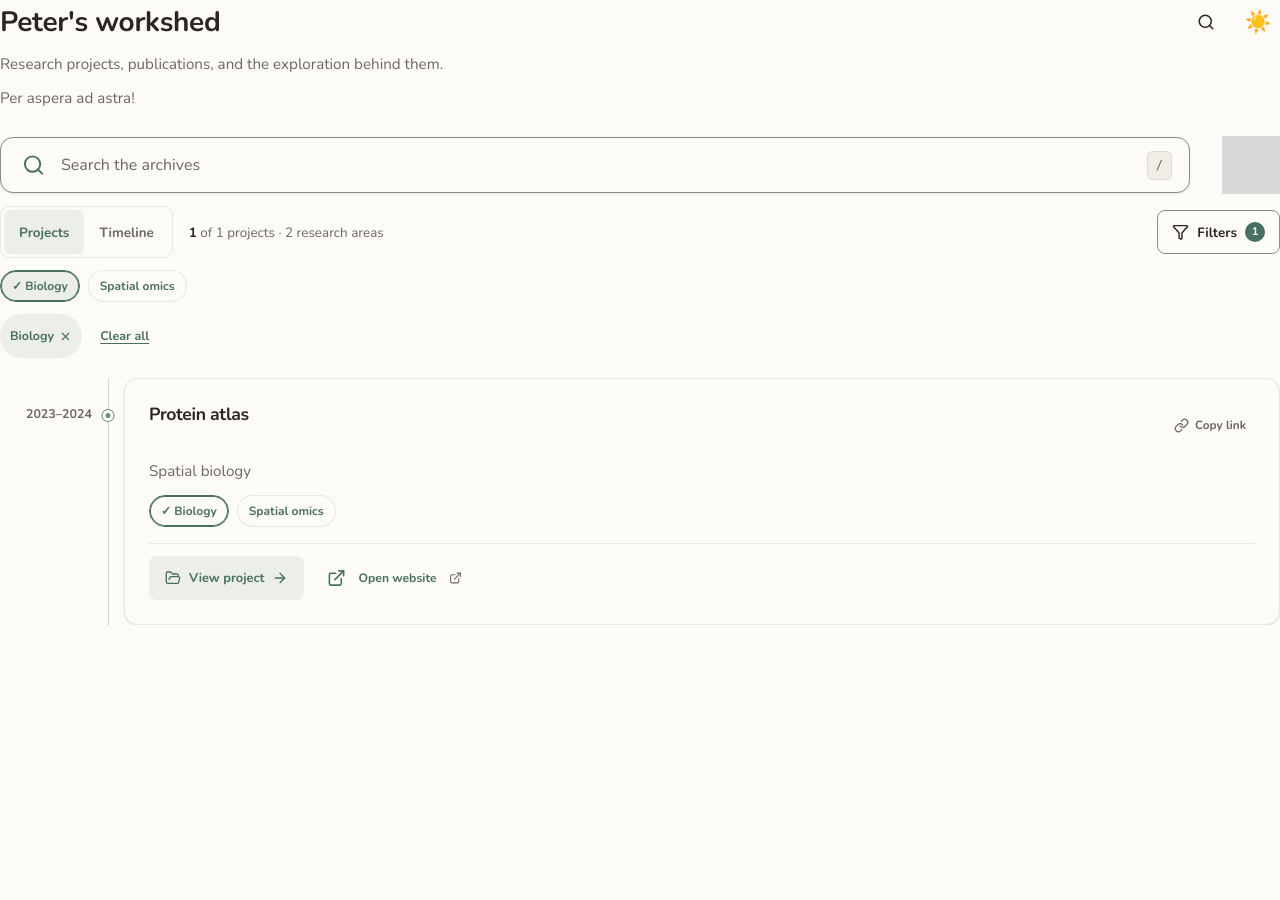
it: archive integration regressions › discards cancelled sorting and preserves committed sorting when clearing filters
Click the button "Filters 1" at (1219,232), box [1157,210,1279,254]
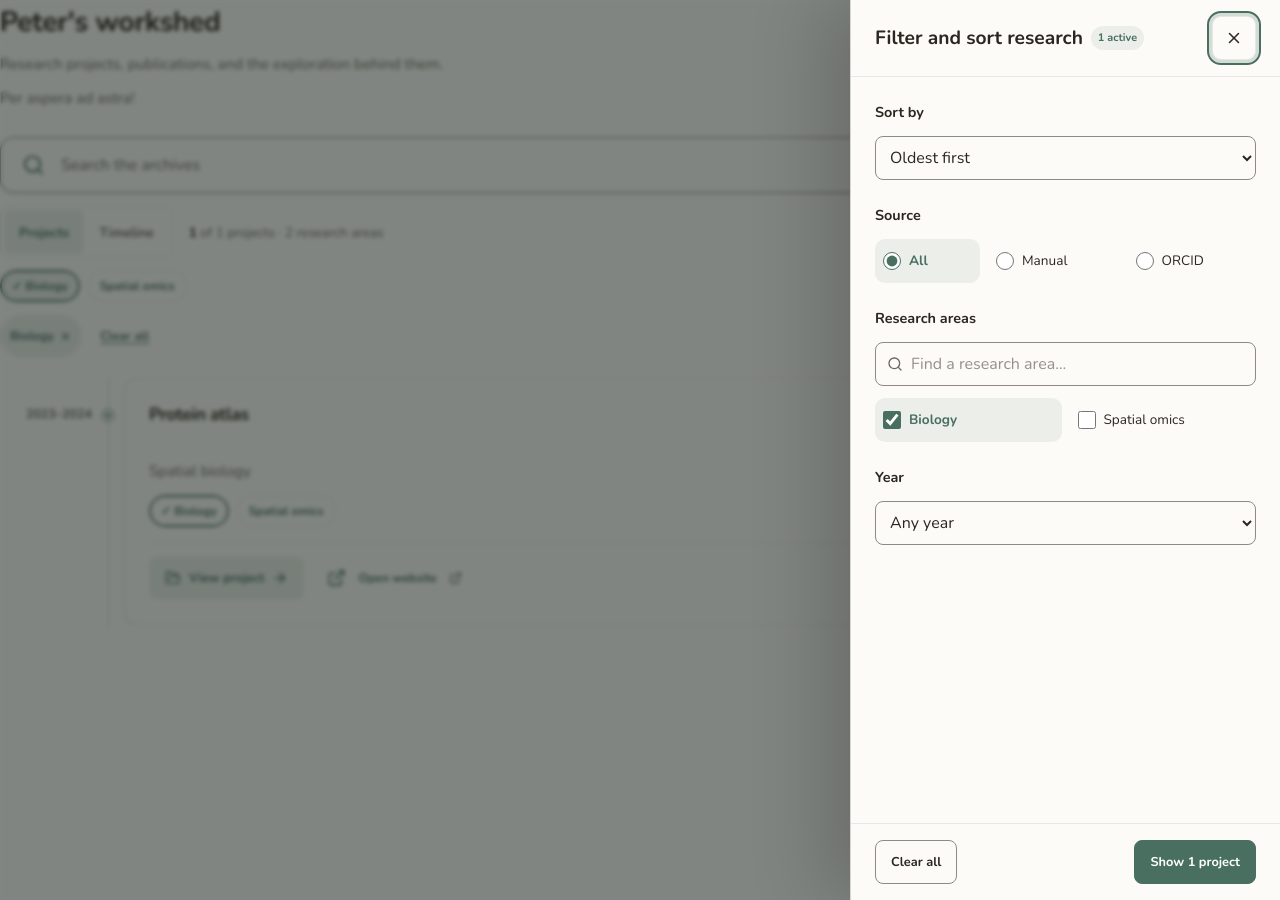
Select "Title (Z–A)" in the dropdown labelled "Sort by" at (1066,158), box [875,136,1256,180]
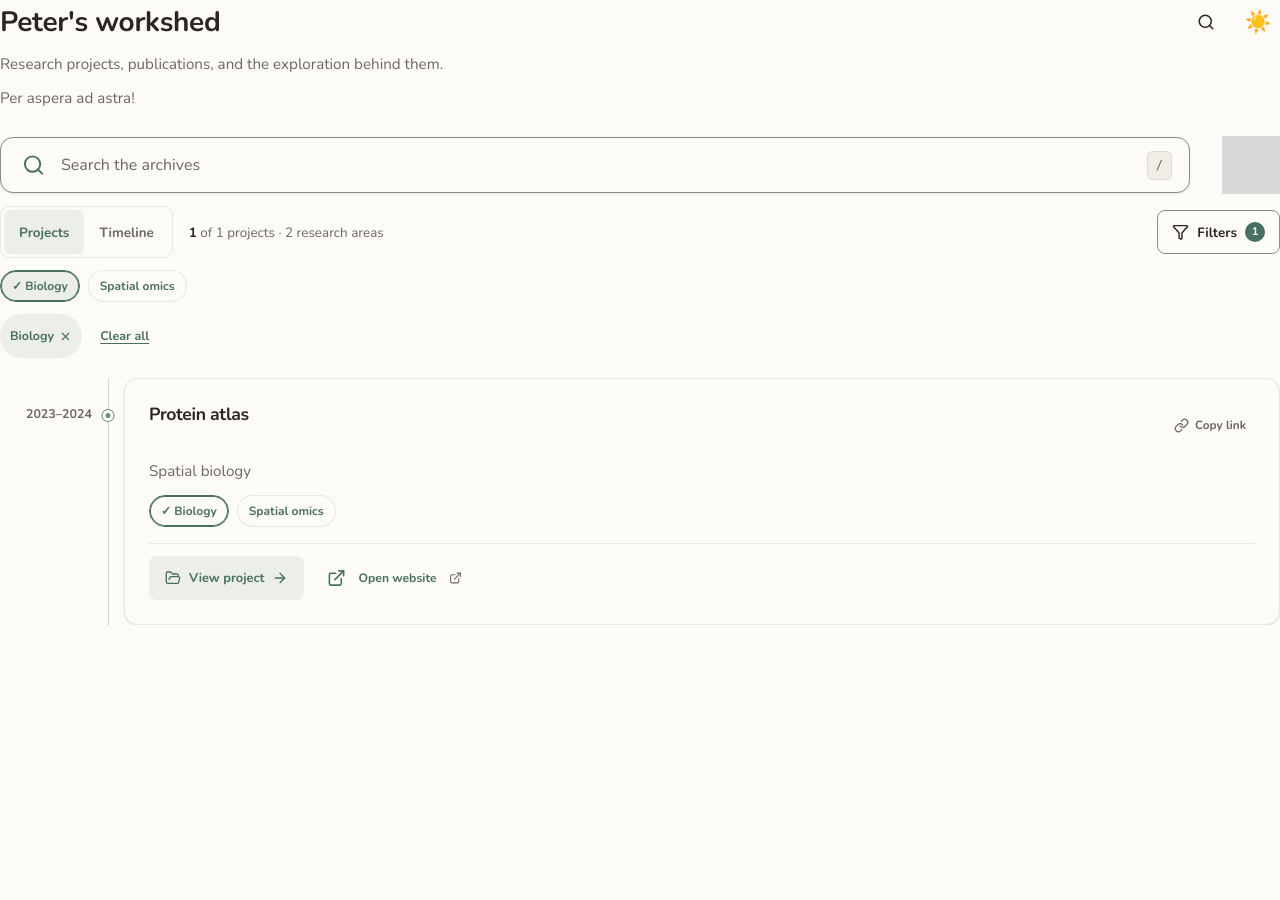
Click the button "Filters 1" at (1219,232), box [1157,210,1279,254]
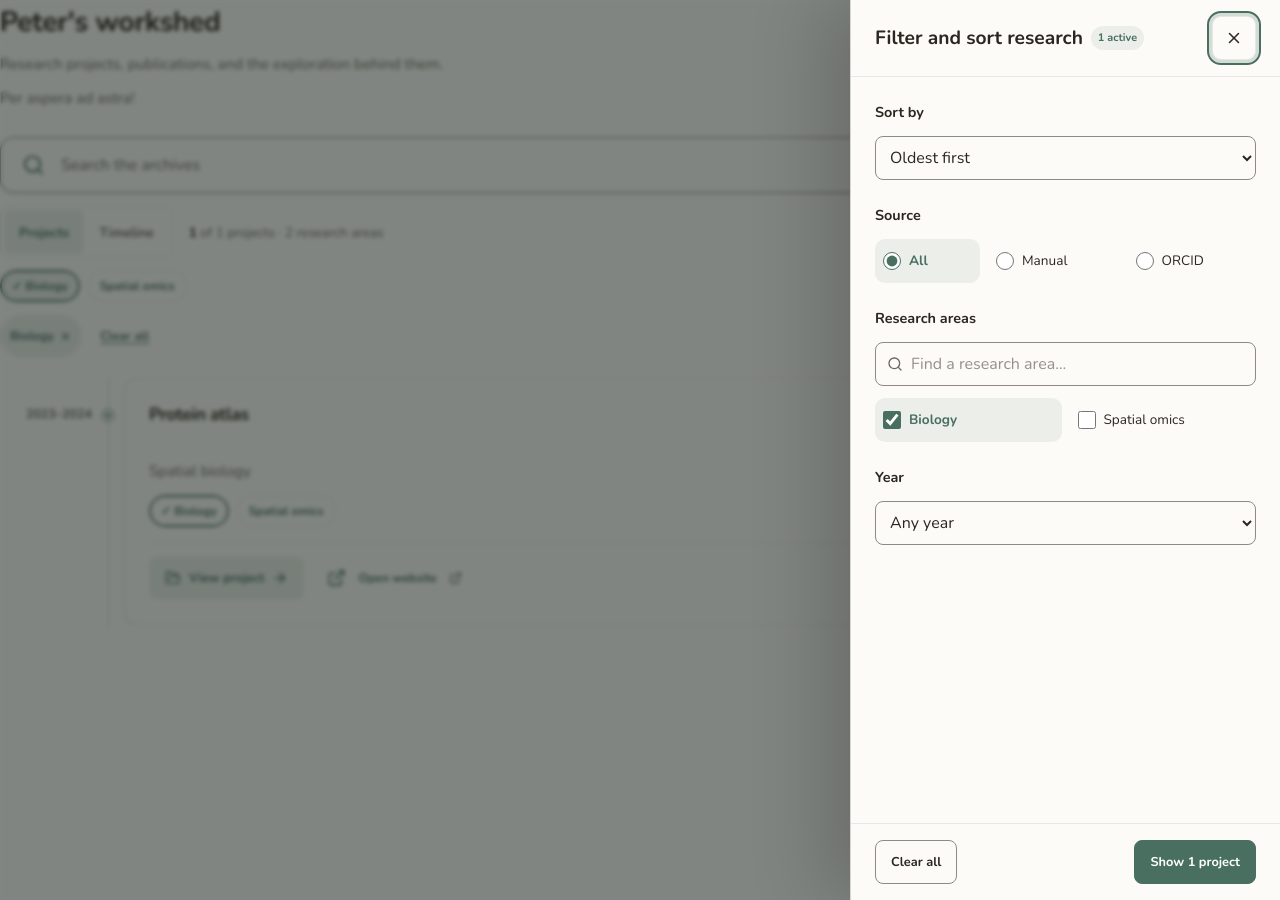
Check: the dropdown labelled "Sort by" shows "Oldest first"
Select "Title (A–Z)" in the dropdown labelled "Sort by" at (1066,158), box [875,136,1256,180]
Click the button named "Close filters" at (1234,38), box [1212,16,1256,60]
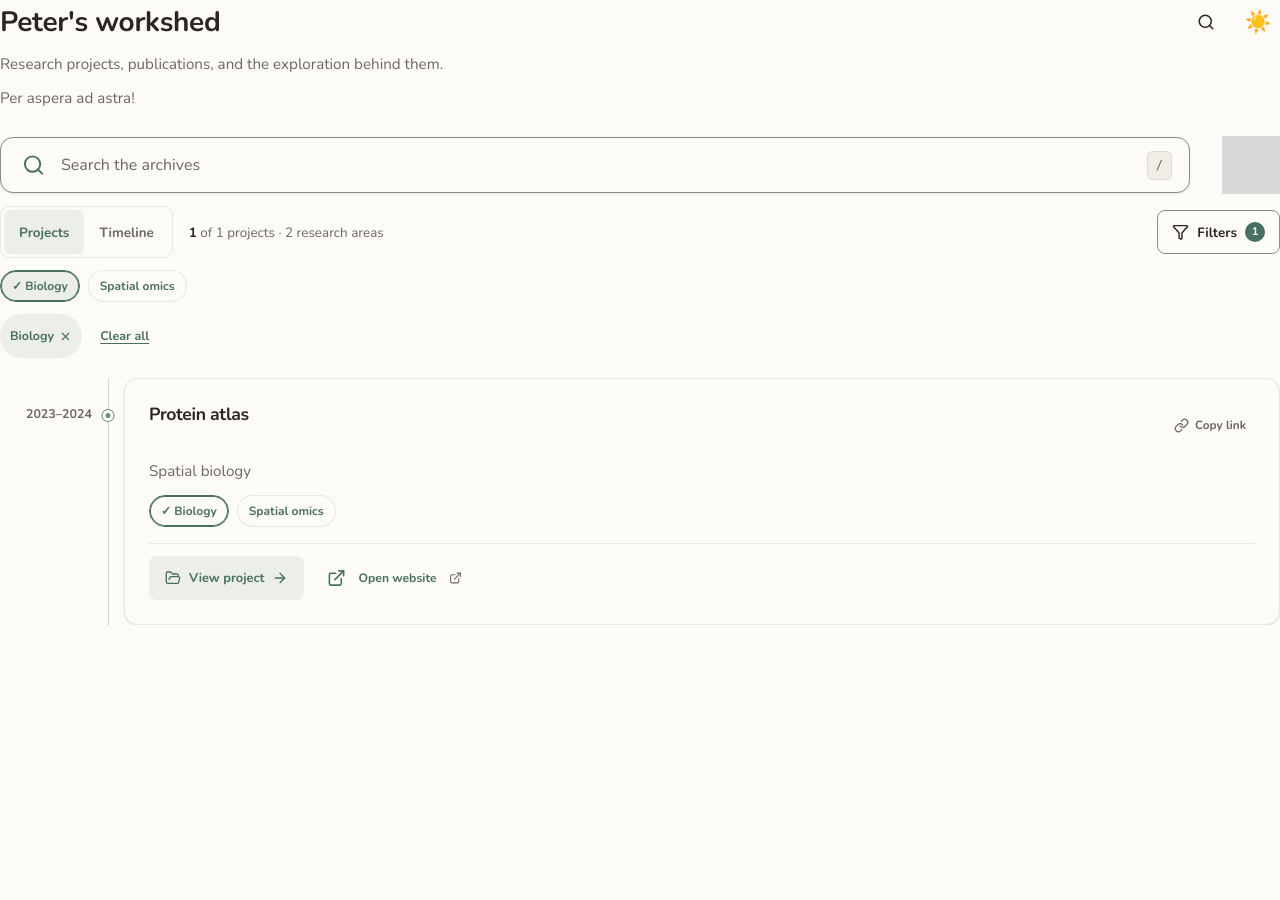
Click the button "Filters 1" at (1219,232), box [1157,210,1279,254]
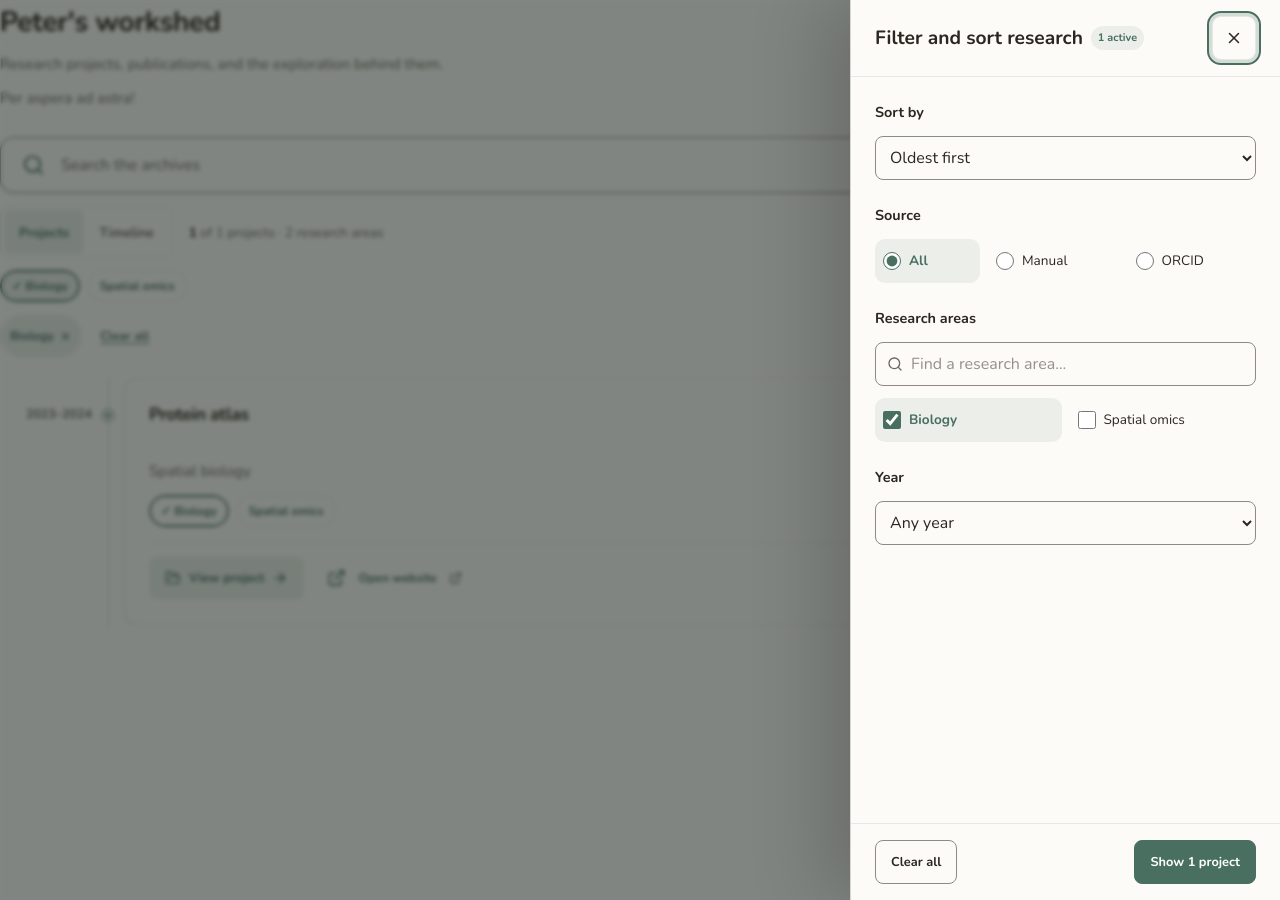
Check: the dropdown labelled "Sort by" shows "Oldest first", box [875,136,1256,180]
Click the button "Clear all" at (916,862), box [875,840,957,884]
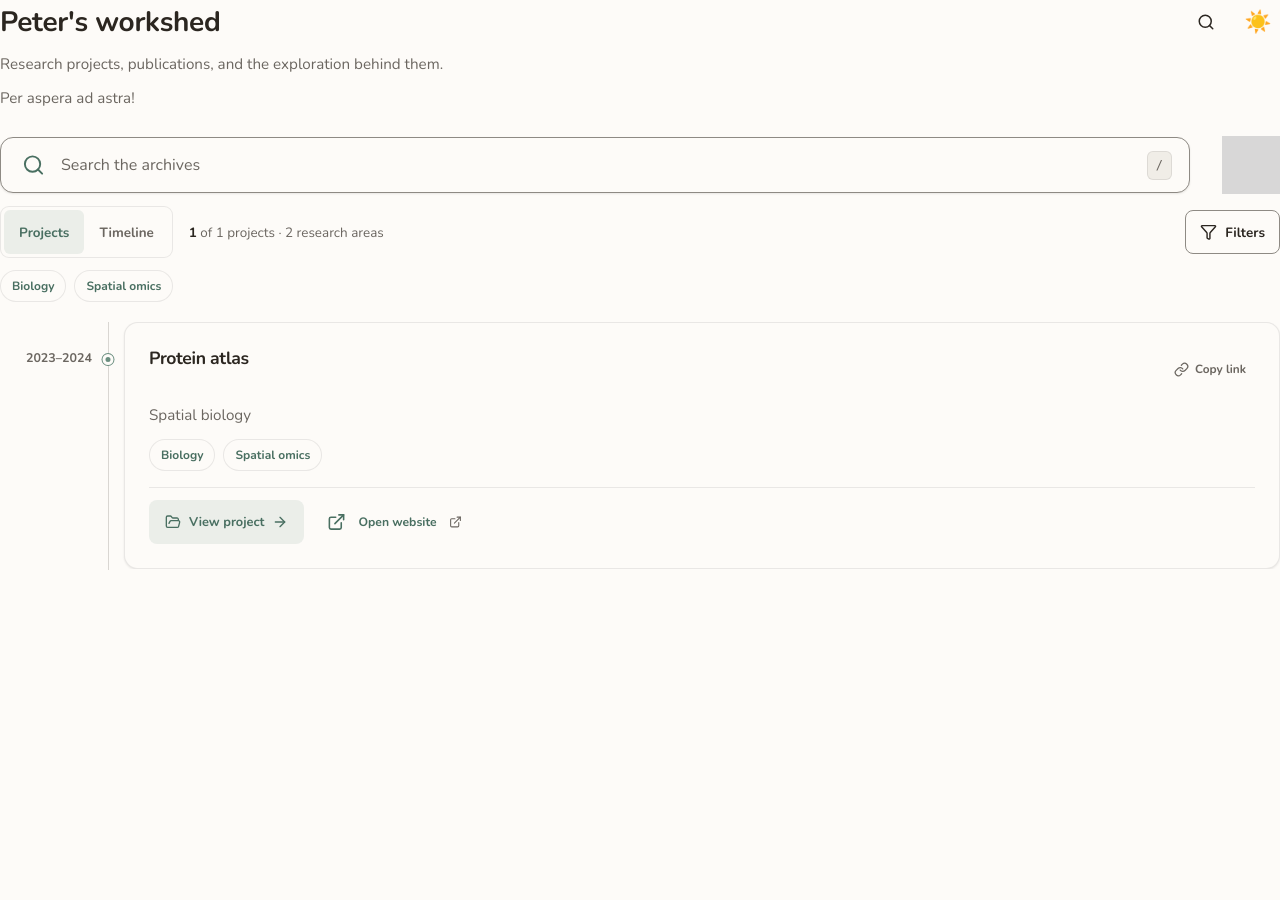
Check: the button "Filters" is shown, box [1185,210,1279,254]
